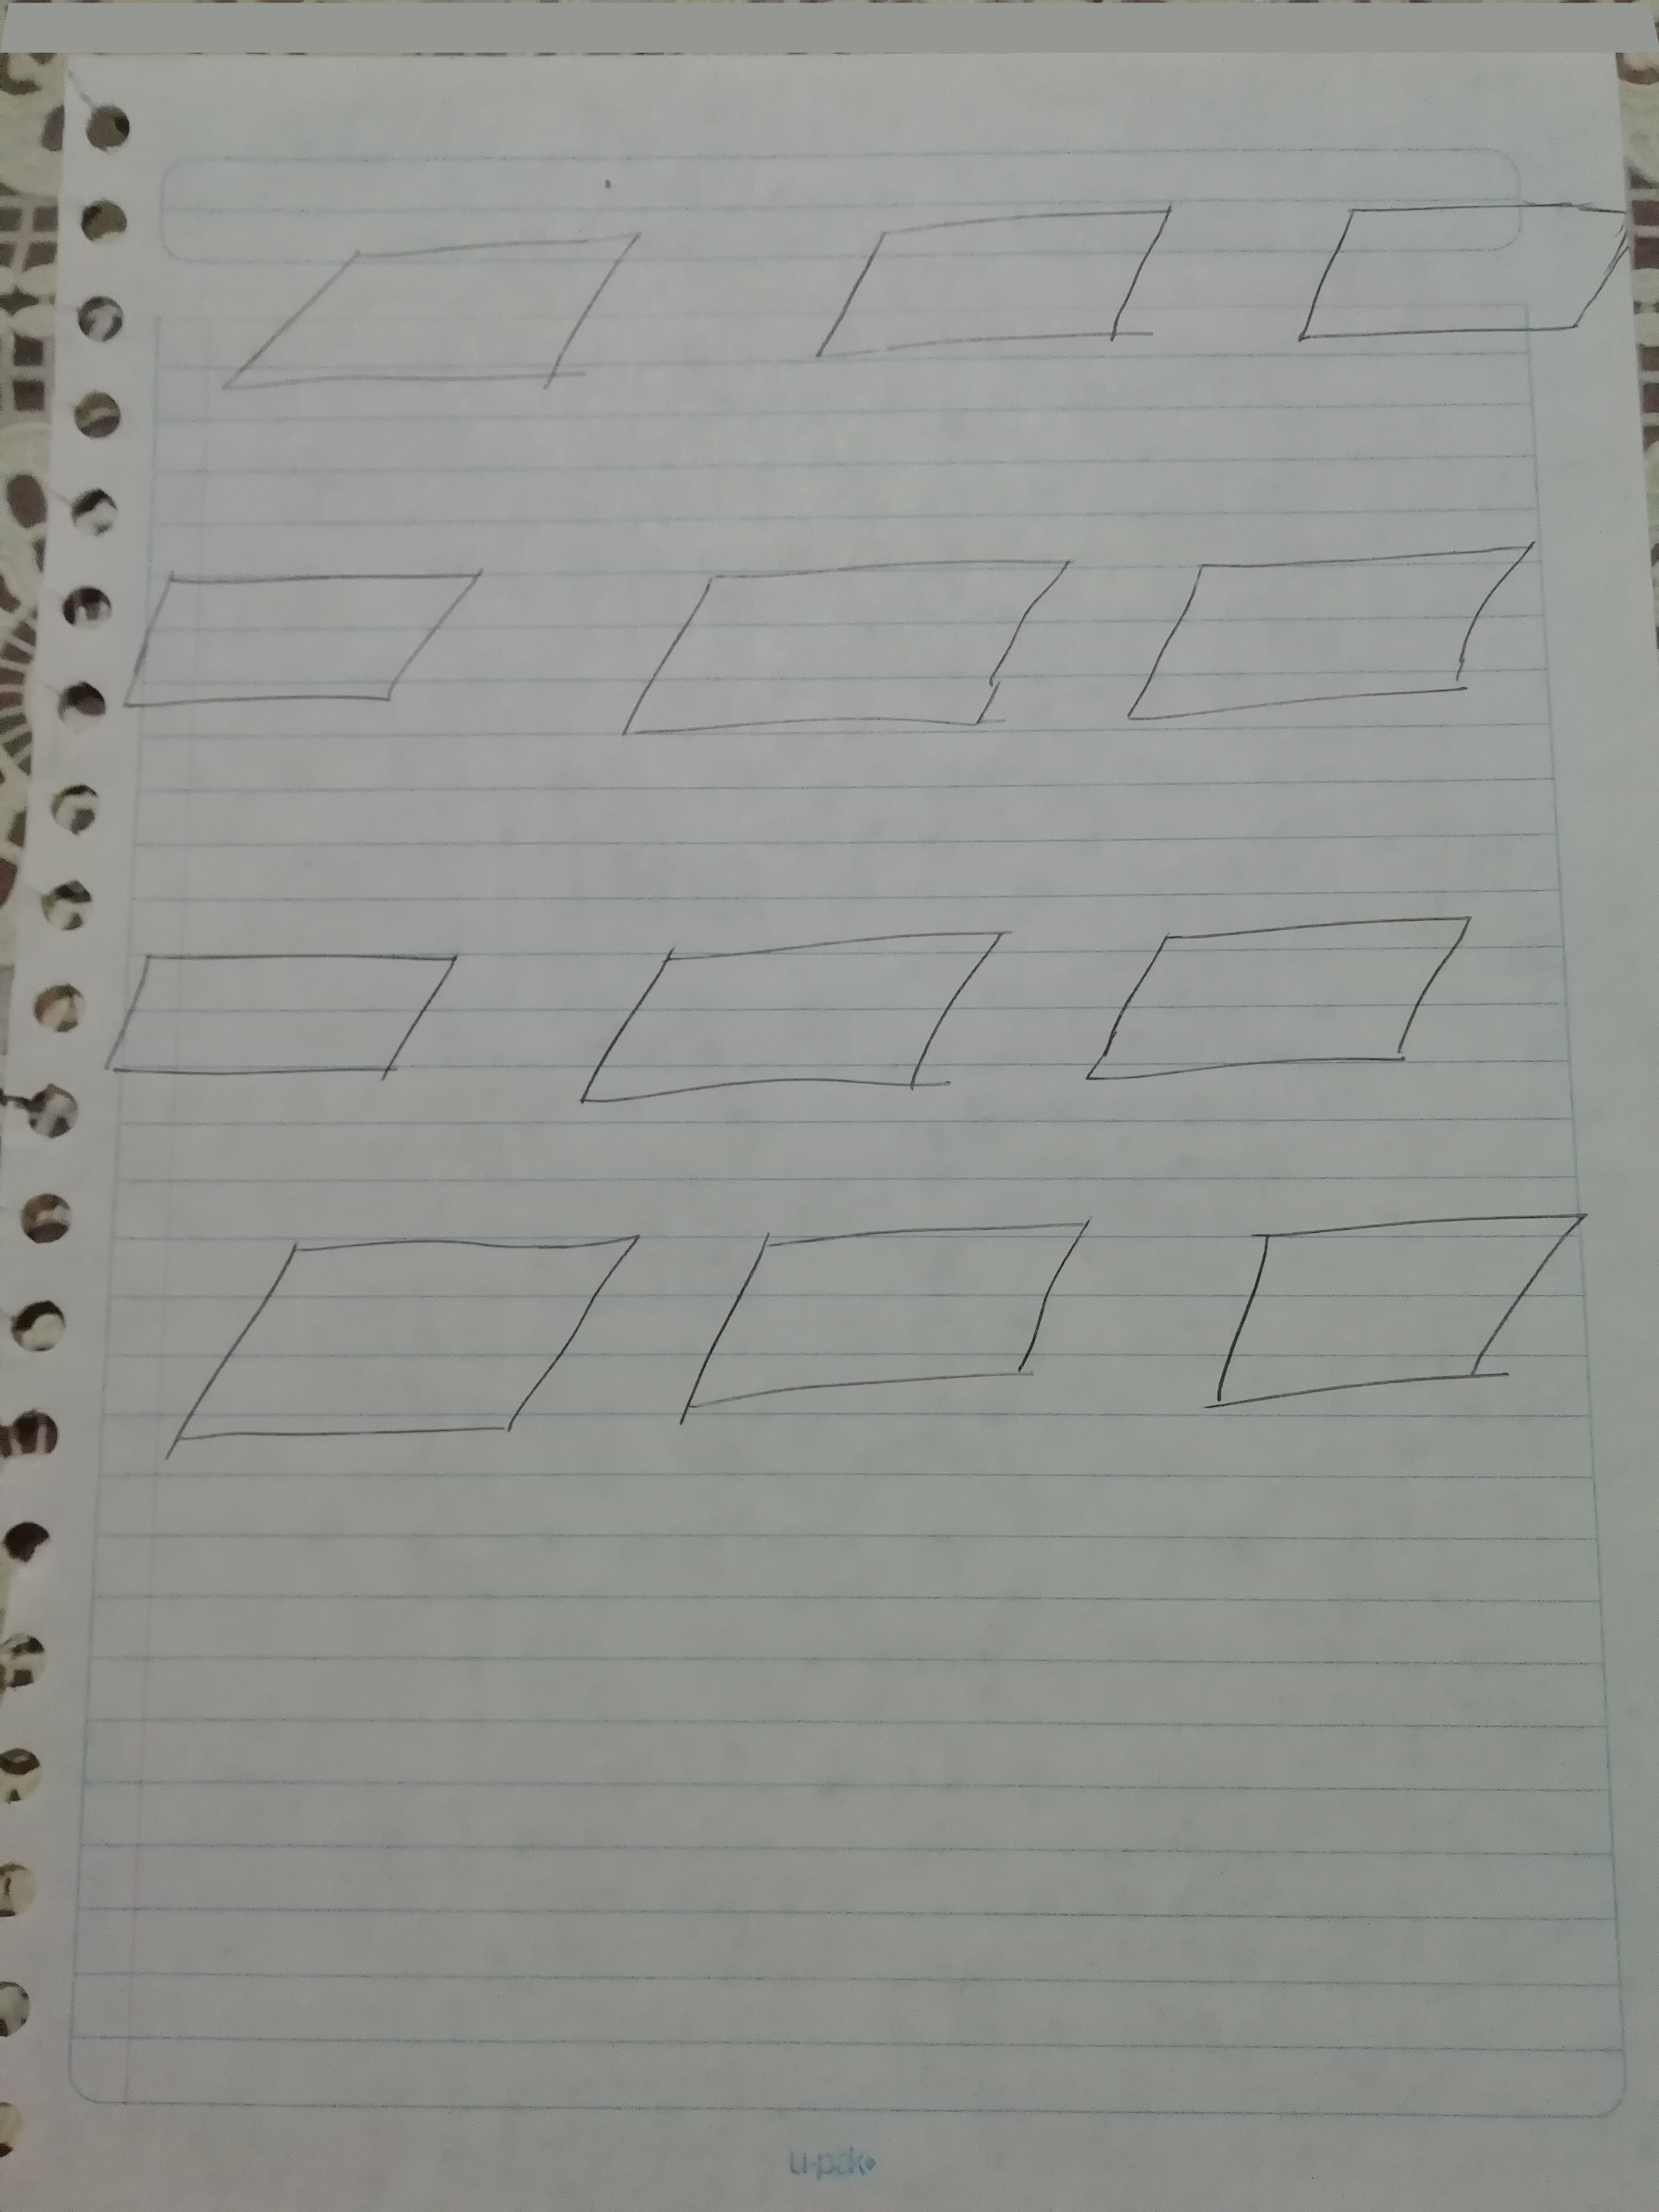scan: (125, 1219, 660, 1482), (667, 1202, 1122, 1460), (582, 542, 1096, 768), (183, 199, 678, 421), (1115, 517, 1558, 766), (1182, 1191, 1614, 1446), (547, 911, 1030, 1130), (784, 185, 1215, 387), (1075, 904, 1511, 1103), (1284, 167, 1622, 411), (112, 549, 523, 733), (94, 925, 481, 1116)
